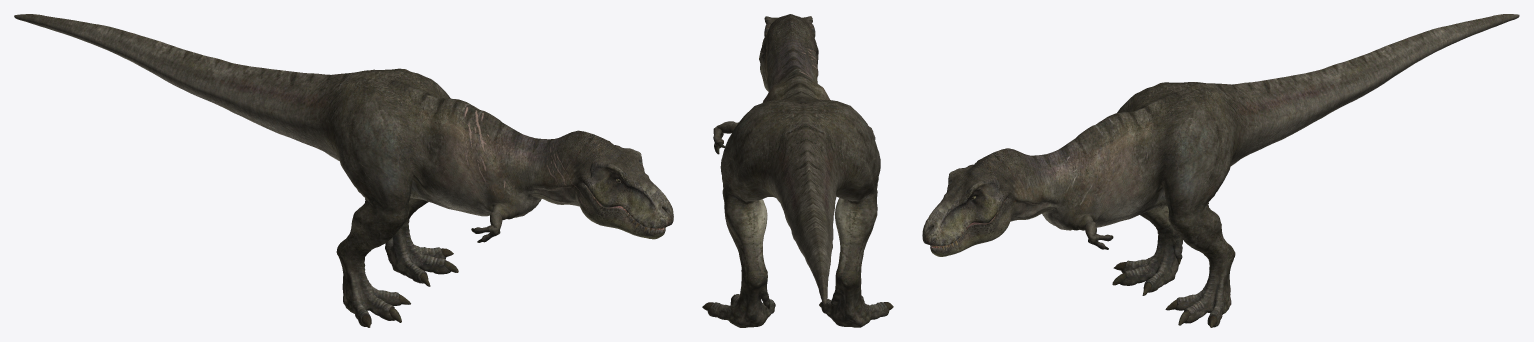
The model's file is dinosaur.glb.
3 views of the same model, side by side, from view 1: azimuth 30°, elevation 25°; view 2: azimuth 150°, elevation 25°; view 3: azimuth 270°, elevation 25° (orthographic). The views are drawn at different scales.
Parts seen in each view (by area): view 1: node_id113 (×3); view 2: node_id113 (×3); view 3: node_id113 (×3).
Part boxes in pixels (bbox=[...]): node_id113 (×3): bbox=[14, 14, 673, 327]; node_id113 (×3): bbox=[702, 14, 893, 327]; node_id113 (×3): bbox=[922, 14, 1519, 327].
Size of the model in its own units: 0.8517 by 0.4978 by 1.3.
Materials: 6 (6 with a texture image).
